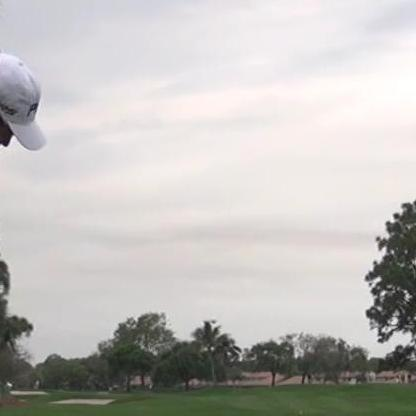golfball: (207, 316, 214, 323)
